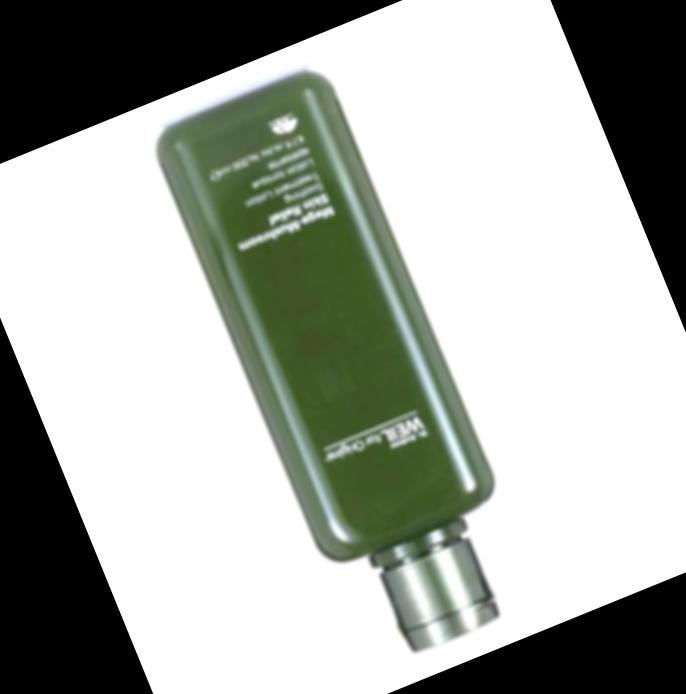cosmetic: (144, 56, 549, 680)
